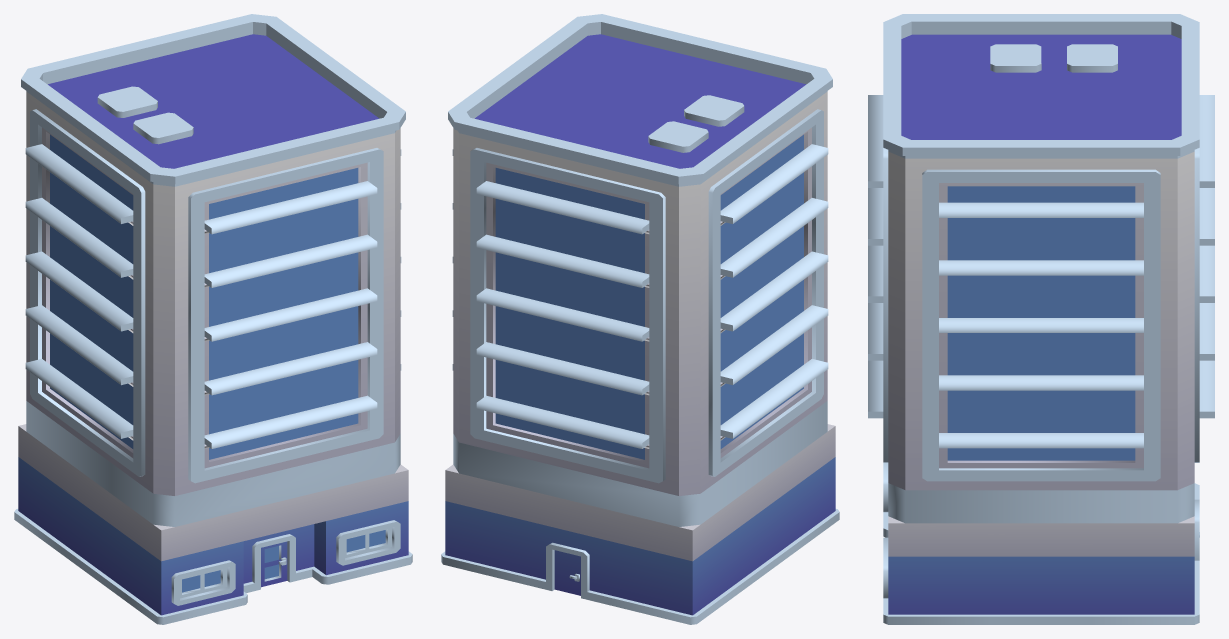
Rendered from office_level1.glb.
3 renders of one model, left to right at view 1: azimuth 30°, elevation 25°; view 2: azimuth 150°, elevation 25°; view 3: azimuth 270°, elevation 25°, orthographic. The views are drawn at different scales.
Visible parts, largest first — view 1: building-skyscraper-a; view 2: building-skyscraper-a; view 3: building-skyscraper-a.
Part boxes in pixels (box(x1,y1,x2,y2)): building-skyscraper-a: box(14, 14, 412, 624); building-skyscraper-a: box(441, 14, 839, 624); building-skyscraper-a: box(868, 14, 1214, 624).
Size of the model in its own units: 1 by 1.52 by 1.
Materials: 1 (1 with a texture image).
